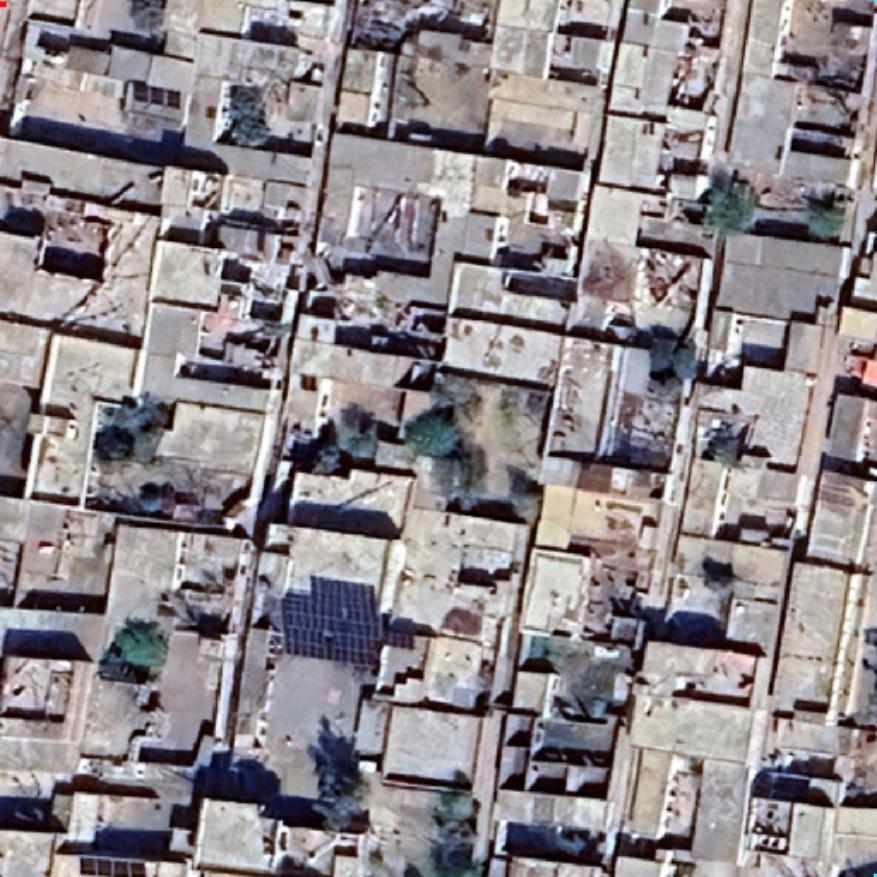Solarpanel: (274, 570, 390, 674), (128, 75, 184, 113), (77, 855, 149, 877)
